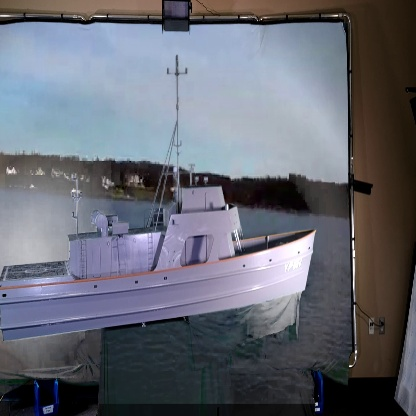YP689: (0, 54, 315, 346)
